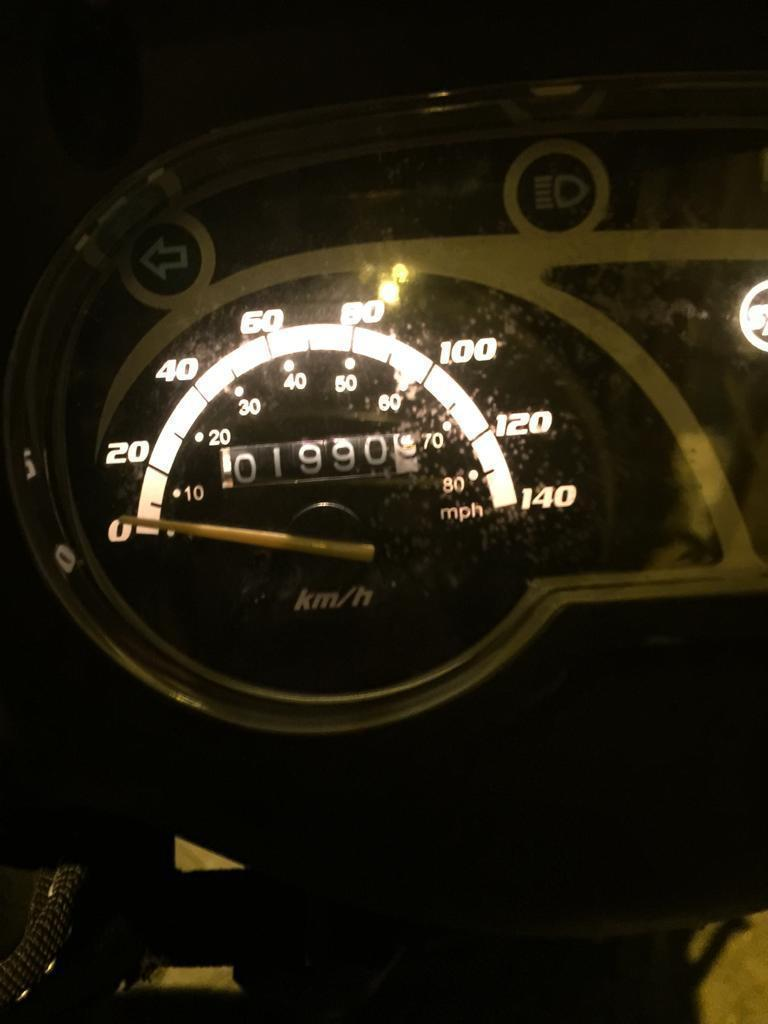0: (232, 450, 260, 484), (362, 433, 389, 466), (220, 427, 232, 445)
1: (271, 443, 286, 482)
9: (297, 444, 322, 476), (396, 431, 420, 463), (331, 441, 356, 471)
odometer: (218, 421, 424, 496)
